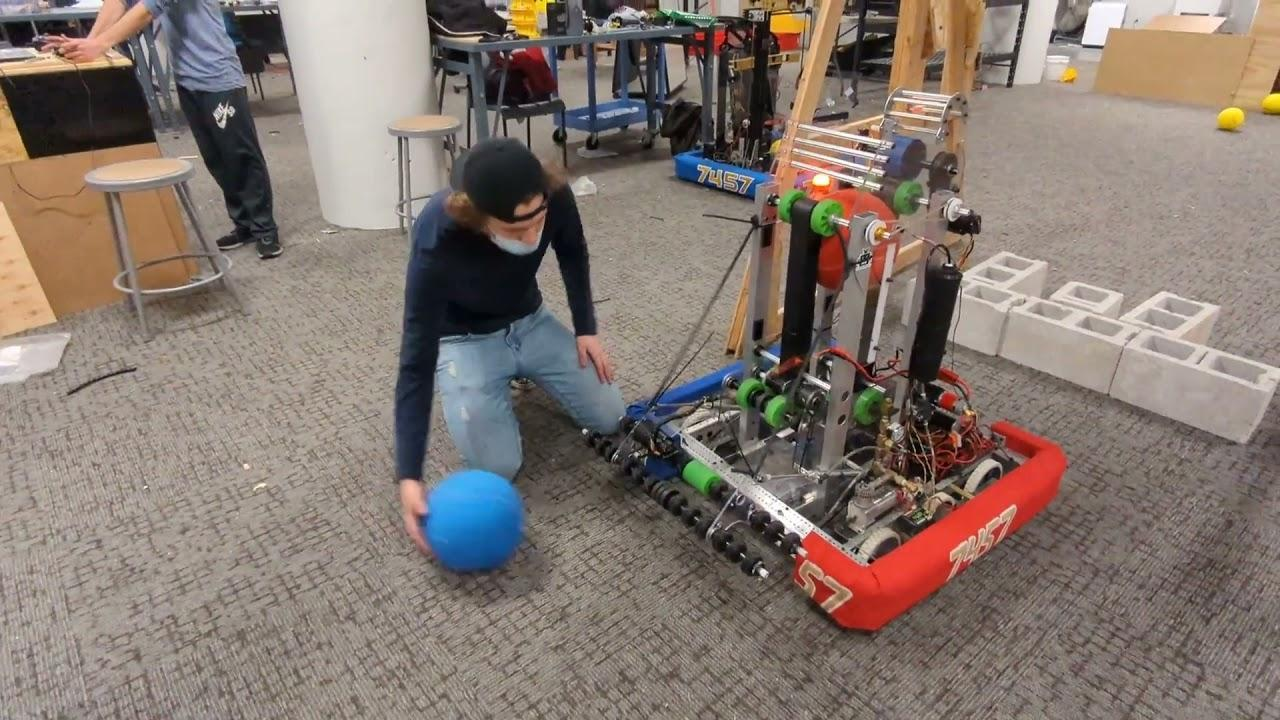robot: (575, 82, 1078, 644), (669, 2, 902, 210)
